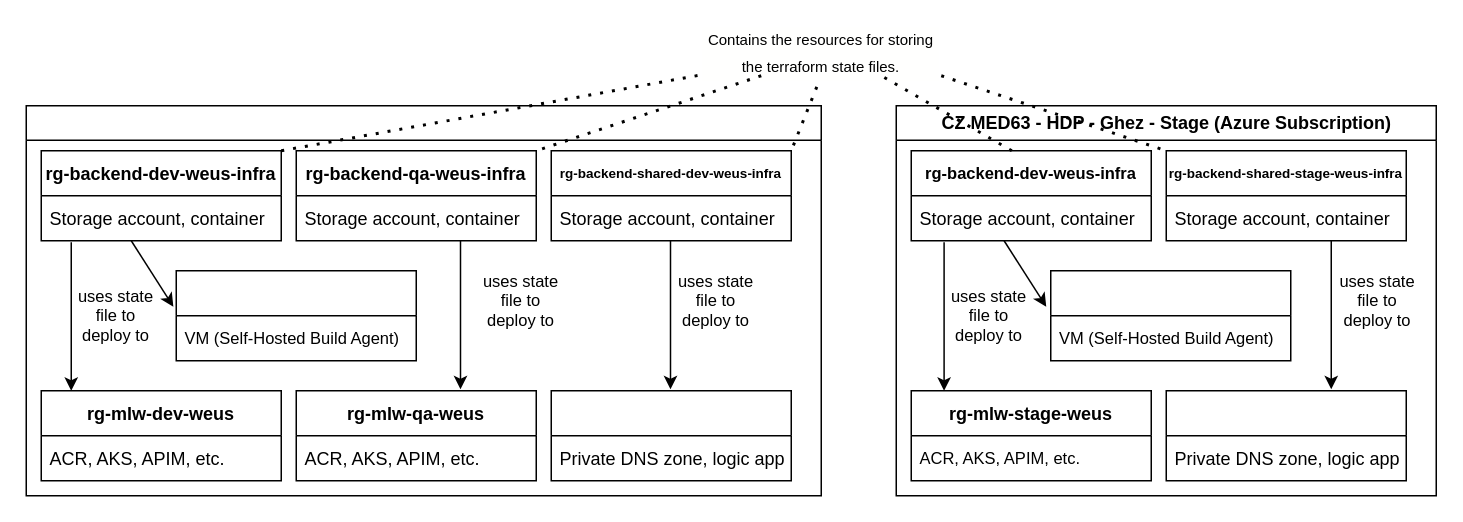
Some shapes in this 1463 by 522 pixel diagram are drawn without their labels. Here are the shapes that lost their labels. From the top down, the box of each, then its label:
(175, 269, 416, 361): rg-cicd-weus-buildagent
(25, 104, 821, 496): CZ MED62 - HDP - Ghez - Dev (Azure Subscription)
(1049, 269, 1291, 361): rg-cicd-stage-weus-buildagent
(550, 389, 791, 481): rg-mlw-shared-weus
(1165, 389, 1406, 481): rg-mlw-shared-stage-weus
